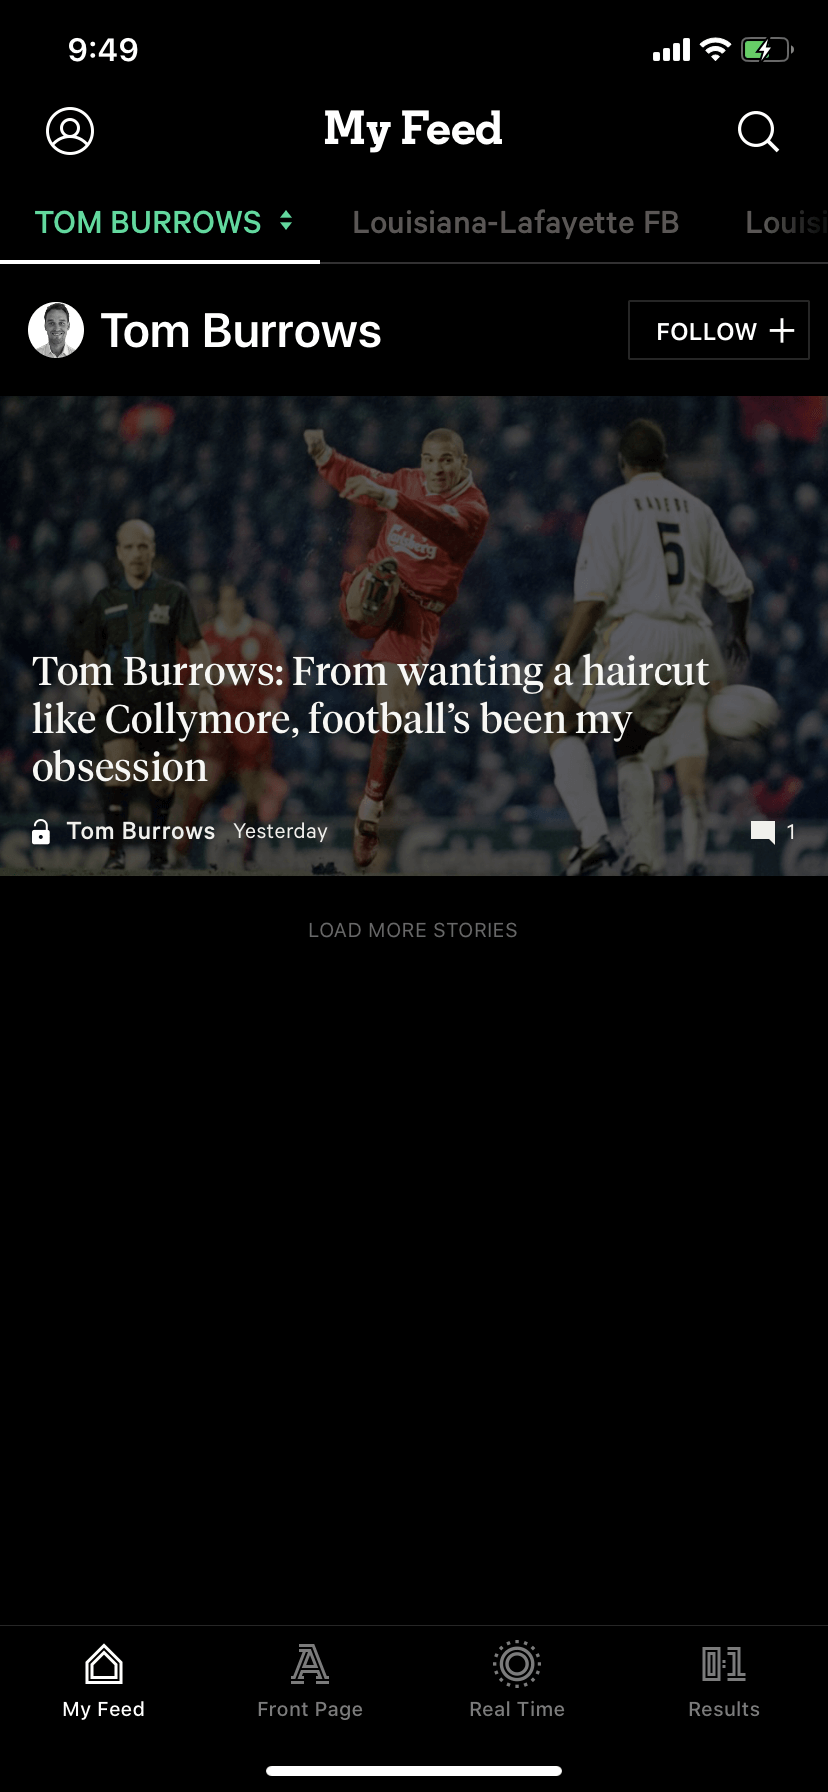Buttons: (274, 891, 551, 963), (621, 290, 818, 363), (708, 787, 817, 854), (716, 91, 791, 161), (35, 91, 108, 160)
